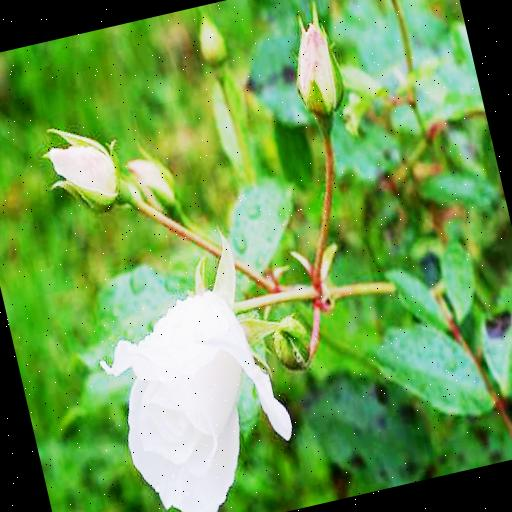rose: (88, 275, 309, 512)
